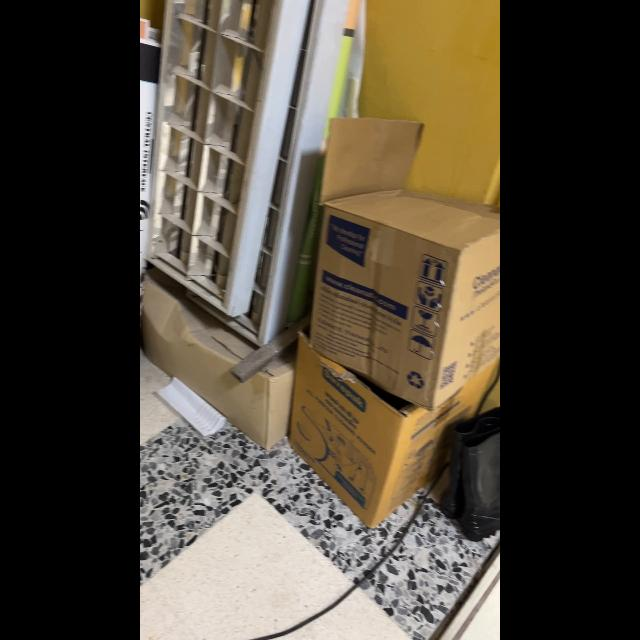cardboard_box: (318, 118, 500, 410), (286, 324, 499, 528)
